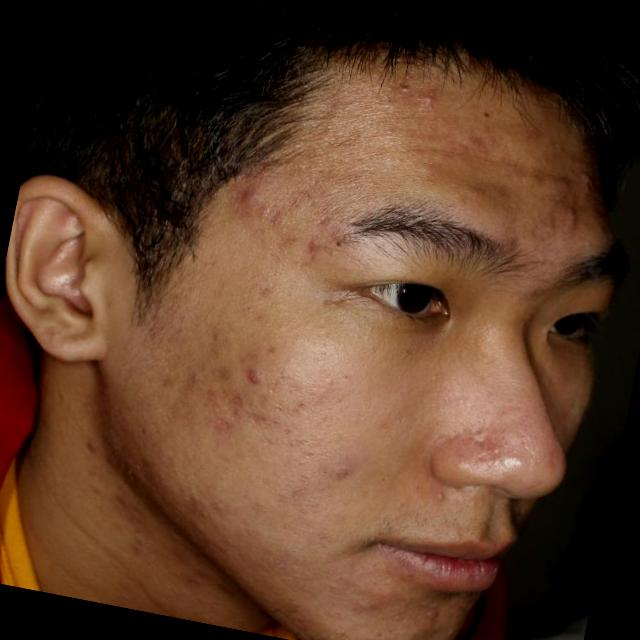acne: (290, 226, 332, 274), (548, 202, 595, 240), (218, 177, 257, 219), (216, 392, 262, 426), (183, 362, 216, 398), (418, 596, 451, 632), (232, 349, 260, 391), (208, 357, 236, 393), (355, 578, 382, 615), (568, 168, 601, 198), (411, 75, 439, 109), (338, 468, 368, 496), (254, 198, 279, 228)
